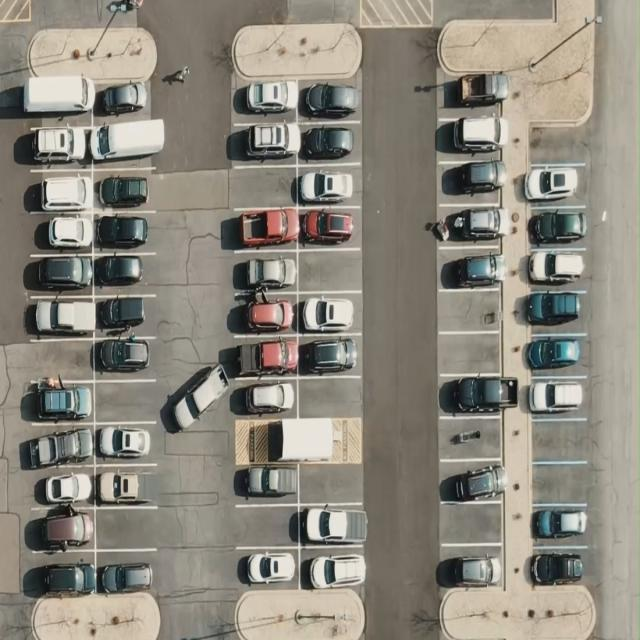space-empty: (24, 338, 94, 383), (232, 504, 299, 550), (228, 164, 296, 209), (438, 287, 502, 333), (438, 331, 502, 377), (94, 379, 162, 422), (95, 507, 163, 550), (440, 502, 504, 547), (298, 375, 362, 420), (296, 248, 361, 291), (298, 462, 361, 505), (528, 419, 590, 462), (529, 462, 590, 505), (530, 124, 588, 165)
space-occupied: (90, 116, 164, 166), (440, 370, 512, 420), (23, 117, 90, 170), (436, 202, 508, 250), (24, 290, 93, 340), (438, 112, 510, 159), (298, 500, 364, 550), (226, 207, 298, 252), (27, 377, 94, 425), (228, 334, 299, 379), (522, 159, 587, 208), (230, 120, 299, 166), (94, 462, 164, 507), (23, 80, 90, 127), (230, 248, 298, 294), (27, 166, 92, 214), (93, 420, 162, 465), (229, 292, 296, 338), (438, 160, 508, 204), (436, 246, 504, 291), (522, 286, 588, 332), (524, 205, 591, 250), (235, 544, 303, 588), (30, 464, 96, 509), (524, 331, 590, 376), (93, 166, 159, 211), (299, 288, 361, 335), (30, 552, 96, 596), (441, 458, 504, 504), (94, 209, 158, 254), (96, 551, 157, 598), (300, 546, 365, 590), (236, 461, 299, 506), (296, 164, 360, 208), (438, 546, 502, 590), (232, 79, 296, 122), (298, 205, 359, 250), (94, 336, 156, 380), (28, 426, 96, 466), (231, 382, 299, 422), (300, 333, 360, 378), (530, 502, 590, 547), (29, 510, 96, 550), (32, 212, 94, 255), (300, 121, 360, 165), (93, 254, 154, 297), (28, 254, 93, 294), (529, 546, 590, 588), (300, 81, 360, 122), (94, 295, 154, 336), (532, 378, 593, 418), (439, 75, 502, 112), (528, 248, 586, 286), (96, 84, 152, 117)
